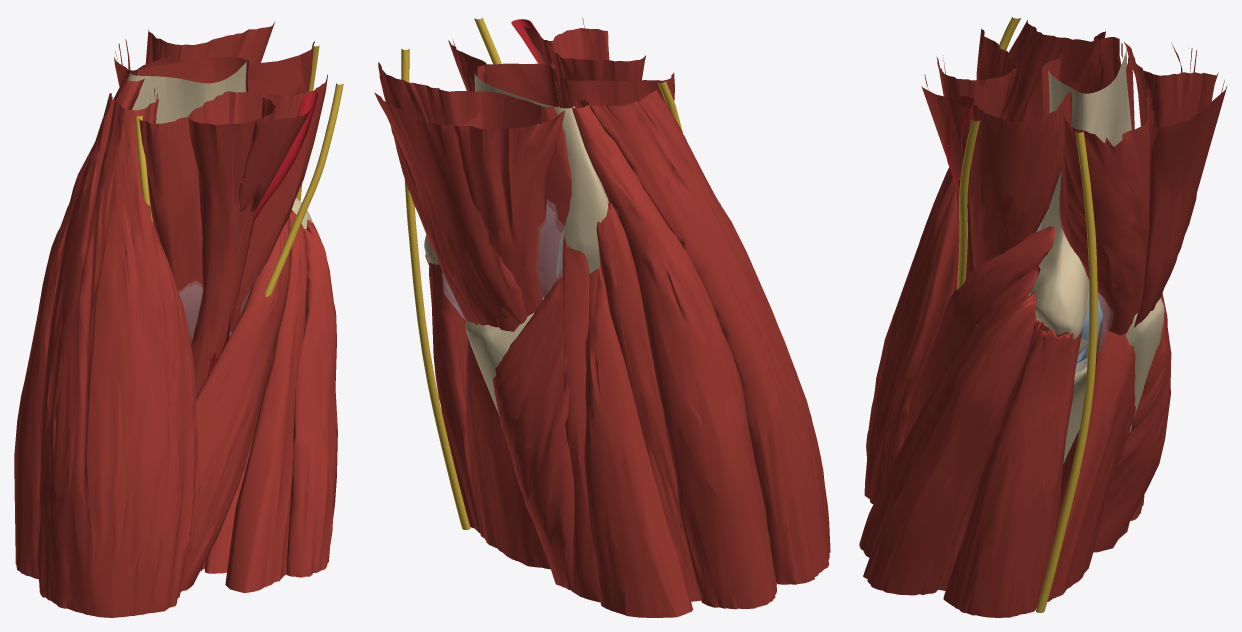
Rendered from joint-elbow.b0ecc3ab.glb.
3 views of the same model, side by side, from view 1: azimuth 30°, elevation 25°; view 2: azimuth 150°, elevation 25°; view 3: azimuth 270°, elevation 25° (orthographic). The views are drawn at different scales.
Visible parts, largest first — view 1: Muscle_BrachioradialisMuscle_Right, Muscle_BrachialisMuscle_Right, Muscle_SuperficialHeadOfPronatorTeres_Right, Muscle_FlexorCarpiRadialis_Right, Muscle_PalmarisLongusMuscle_Right, Muscle_LongHeadOfBicepsBrachii_Right, Muscle_ExtensorCarpiRadialisLongus_Right, Muscle_MedialHeadOfTricepsBrachii_Right, Muscle_ShortHeadOfBicepsBrachii_Right, Bone_Humerus_Right, Muscle_LongHeadOfTricepsBrachii_Right, Nerve_MedianNerve_Right (+5 smaller); view 2: Muscle_ExtensorCarpiRadialisLongus_Right, Muscle_BrachioradialisMuscle_Right, Muscle_ExtensorDigitorum_Right, Muscle_AnconeusMuscle_Right, Muscle_LongHeadOfTricepsBrachii_Right, Muscle_LateralHeadOfTricepsBrachii_Right, Muscle_ExtensorCarpiRadialisBrevis_Right, Muscle_MedialHeadOfTricepsBrachii_Right, Muscle_UlnarHeadOfFlexorCarpiUlnaris_Right, Muscle_HumeralHeadOfExtensorCarpiUlnaris_Right, Muscle_HumeralHeadOfFlexorCarpiUlnaris_Right, Muscle_BrachialisMuscle_Right (+6 smaller); view 3: Muscle_HumeralHeadOfFlexorCarpiUlnaris_Right, Muscle_PalmarisLongusMuscle_Right, Muscle_BrachioradialisMuscle_Right, Muscle_MedialHeadOfTricepsBrachii_Right, Muscle_BrachialisMuscle_Right, Muscle_UlnarHeadOfFlexorCarpiUlnaris_Right, Muscle_LongHeadOfTricepsBrachii_Right, Bone_Humerus_Right, Muscle_SuperficialHeadOfPronatorTeres_Right, Muscle_AnconeusMuscle_Right, Nerve_UlnarNerve_Right, Muscle_FlexorCarpiRadialis_Right (+9 smaller).
Boxes of the visible parts, box(x1,y1,x2,y2) form: Muscle_BrachioradialisMuscle_Right: box(37, 82, 200, 617); Muscle_BrachialisMuscle_Right: box(139, 75, 327, 344); Muscle_SuperficialHeadOfPronatorTeres_Right: box(181, 216, 291, 591); Muscle_FlexorCarpiRadialis_Right: box(225, 210, 308, 592); Muscle_PalmarisLongusMuscle_Right: box(286, 219, 337, 577); Muscle_LongHeadOfBicepsBrachii_Right: box(188, 102, 275, 396); Muscle_ExtensorCarpiRadialisLongus_Right: box(14, 73, 144, 579); Muscle_MedialHeadOfTricepsBrachii_Right: box(136, 41, 314, 95); Muscle_ShortHeadOfBicepsBrachii_Right: box(238, 97, 312, 215); Bone_Humerus_Right: box(127, 61, 312, 228); Muscle_LongHeadOfTricepsBrachii_Right: box(145, 22, 274, 63); Nerve_MedianNerve_Right: box(265, 83, 343, 296); Muscle_ExtensorCarpiRadialisLongus_Right: box(568, 99, 776, 609); Muscle_BrachioradialisMuscle_Right: box(575, 88, 830, 584); Muscle_ExtensorDigitorum_Right: box(584, 267, 693, 617); Muscle_AnconeusMuscle_Right: box(493, 268, 574, 589); Muscle_LongHeadOfTricepsBrachii_Right: box(374, 92, 527, 327); Muscle_LateralHeadOfTricepsBrachii_Right: box(449, 110, 564, 331); Muscle_ExtensorCarpiRadialisBrevis_Right: box(596, 200, 700, 601); Muscle_MedialHeadOfTricepsBrachii_Right: box(378, 62, 571, 297); Muscle_UlnarHeadOfFlexorCarpiUlnaris_Right: box(465, 338, 550, 569); Muscle_HumeralHeadOfExtensorCarpiUlnaris_Right: box(562, 234, 600, 602); Muscle_HumeralHeadOfFlexorCarpiUlnaris_Right: box(425, 254, 480, 533); Muscle_BrachialisMuscle_Right: box(448, 34, 674, 199); Muscle_HumeralHeadOfFlexorCarpiUlnaris_Right: box(943, 328, 1082, 617); Muscle_PalmarisLongusMuscle_Right: box(863, 292, 1037, 595); Muscle_BrachioradialisMuscle_Right: box(864, 20, 1105, 503); Muscle_MedialHeadOfTricepsBrachii_Right: box(1059, 43, 1150, 335); Muscle_BrachialisMuscle_Right: box(969, 29, 1071, 268); Muscle_UlnarHeadOfFlexorCarpiUlnaris_Right: box(1047, 316, 1135, 601); Muscle_LongHeadOfTricepsBrachii_Right: box(1134, 76, 1227, 327); Bone_Humerus_Right: box(1029, 47, 1131, 354); Muscle_SuperficialHeadOfPronatorTeres_Right: box(902, 226, 1054, 443); Muscle_AnconeusMuscle_Right: box(1093, 293, 1171, 552); Nerve_UlnarNerve_Right: box(1036, 131, 1097, 612); Muscle_FlexorCarpiRadialis_Right: box(859, 266, 1040, 557).
Bounding box in the file's own units: 0.0983 × 0.1255 × 0.0835.
